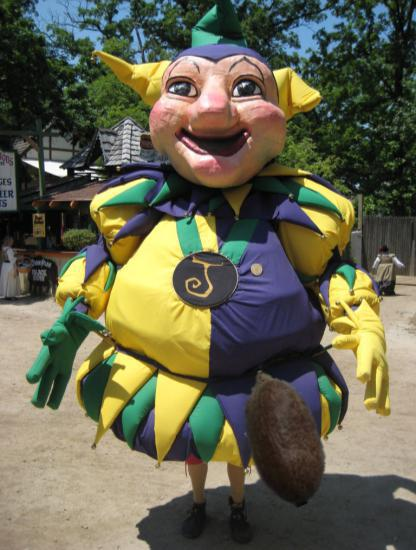Nut: (212, 367, 353, 508)
